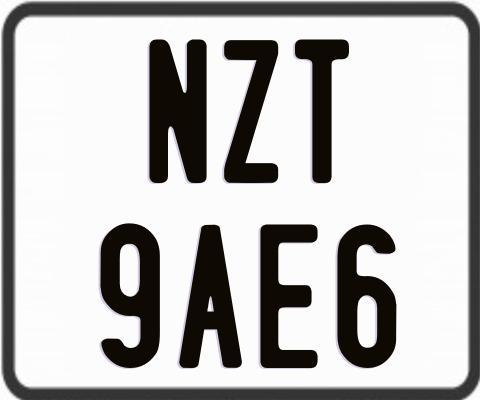6: (337, 223, 399, 372)
9: (100, 222, 164, 370)
A: (176, 224, 244, 368)
E: (259, 221, 319, 366)
N: (148, 37, 211, 182)
T: (292, 38, 349, 184)
Z: (222, 39, 280, 186)
